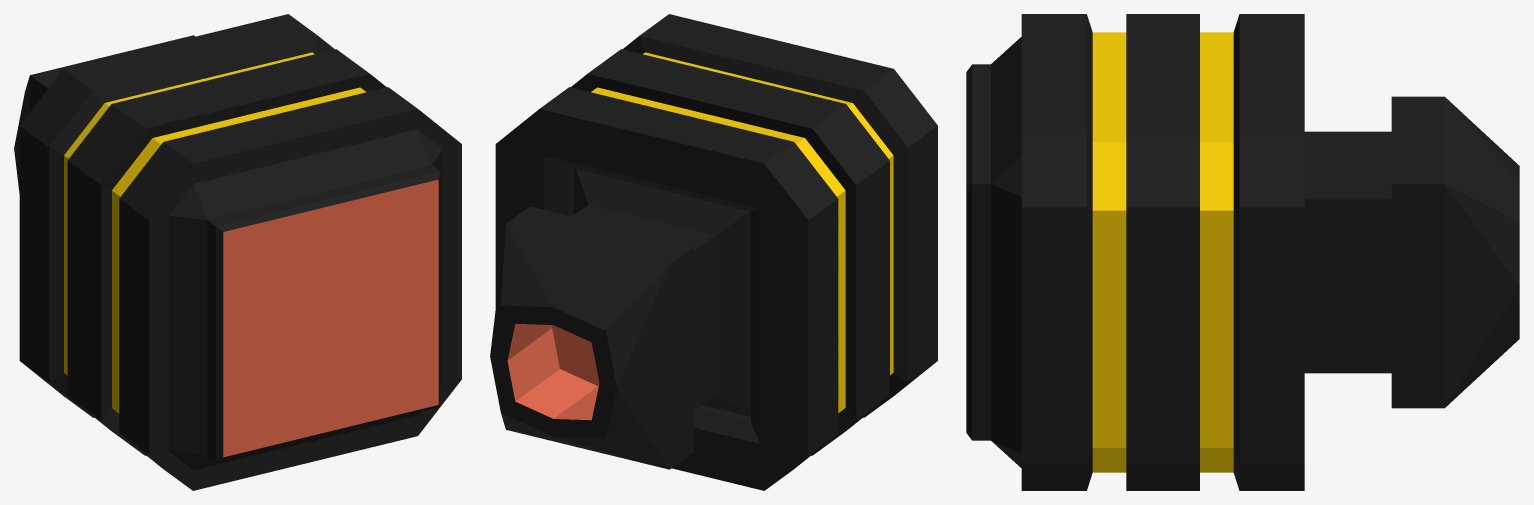
File: Rocket.fbx
The picture shows the model from 3 angles, left to right: view 1: azimuth 30°, elevation 25°; view 2: azimuth 150°, elevation 25°; view 3: azimuth 270°, elevation 25°; orthographic projection. The views are drawn at different scales.
Parts seen in each view (by area): view 1: Cubinho_20_V2_Roket; view 2: Cubinho_20_V2_Roket; view 3: Cubinho_20_V2_Roket.
Part boxes in pixels (x1,y1,x2,y2): Cubinho_20_V2_Roket: (14,14,461,490); Cubinho_20_V2_Roket: (490,14,937,490); Cubinho_20_V2_Roket: (966,14,1519,490).
Size of the model in its own units: 20 by 20 by 28.07.
